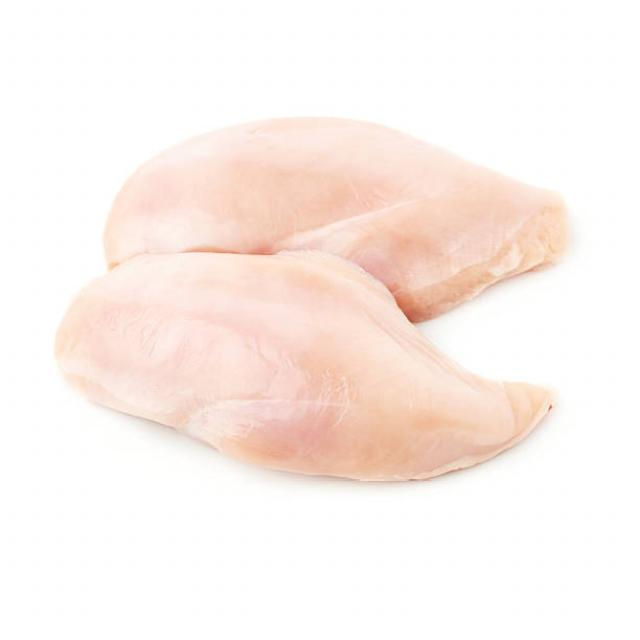Chicken Breast: (76, 269, 512, 518), (118, 120, 572, 264)
